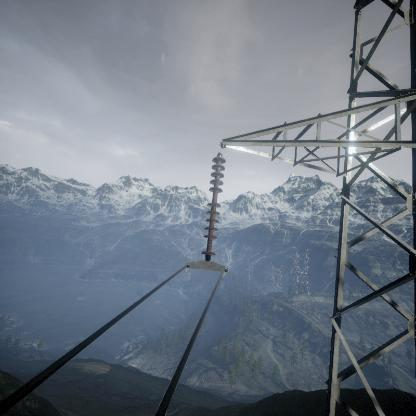insulator: (201, 151, 228, 261)
